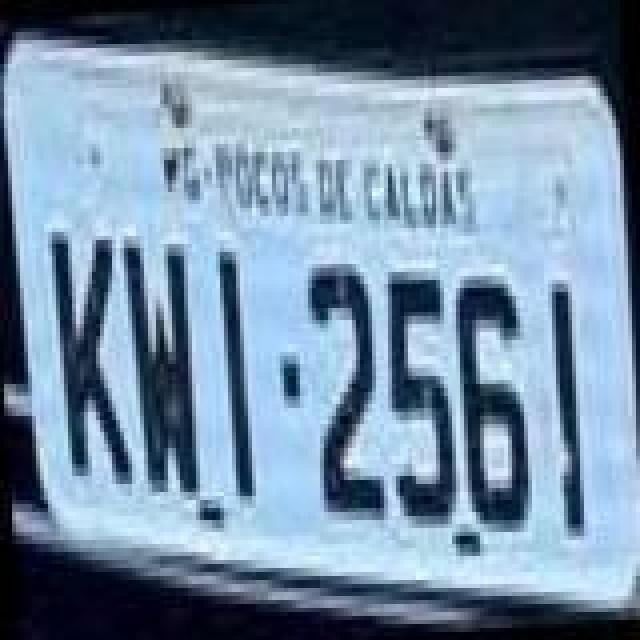1: (546, 280, 590, 552), (214, 244, 258, 508)
2: (302, 256, 386, 528)
5: (378, 268, 462, 532)
6: (454, 266, 538, 534)
K: (50, 224, 134, 496)
W: (118, 230, 202, 506)
